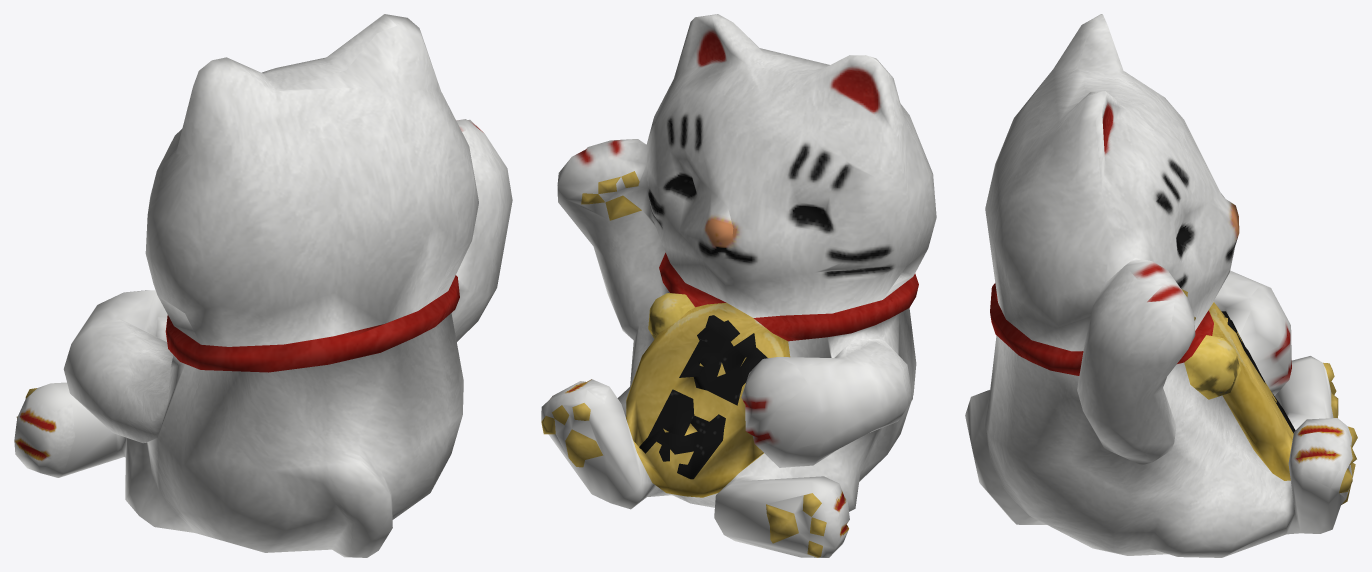
Rendered from plushluckycat_static.fbx.
3 renders of one model, left to right at view 1: azimuth 30°, elevation 25°; view 2: azimuth 150°, elevation 25°; view 3: azimuth 270°, elevation 25°, orthographic. The views are drawn at different scales.
Visible parts, largest first — view 1: splurge_cat9_L.001; view 2: splurge_cat9_L.001; view 3: splurge_cat9_L.001.
Boxes of the visible parts, bbox=[...] form: splurge_cat9_L.001: bbox=[14, 14, 512, 557]; splurge_cat9_L.001: bbox=[541, 14, 936, 557]; splurge_cat9_L.001: bbox=[965, 14, 1357, 557].
Size of the model in its own units: 0.3739 by 0.4381 by 0.3362.
